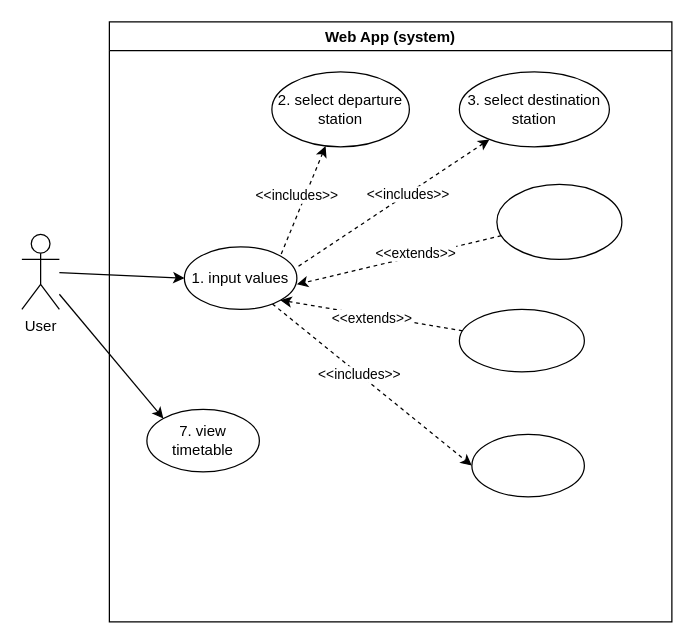
The diagram is 694 pixels wide and 644 high, and some of its shapes have lost their labels. The centre of each missing label's shape, as x and y in pixels:
4. select departure time: [559,221]
5. select arrival time: [521,340]
6. calculate shortest route: [527,465]
